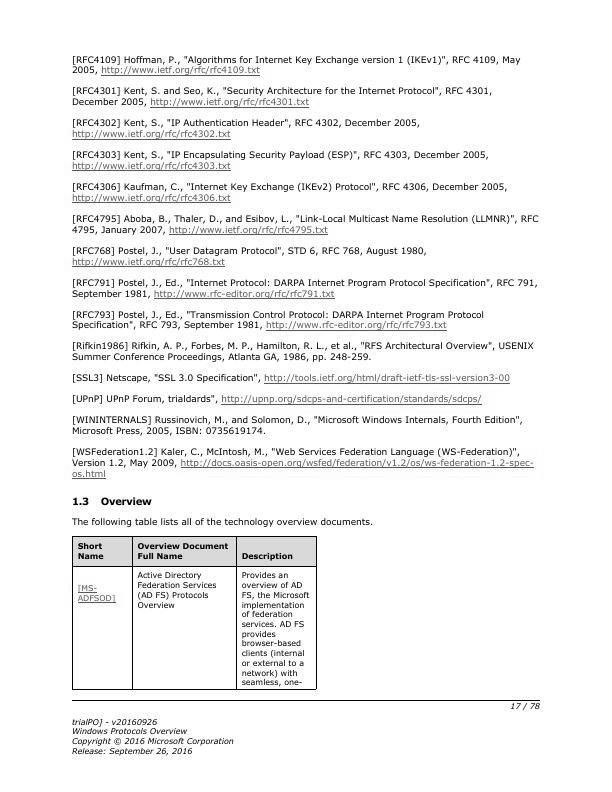table: (70, 534, 318, 692)
text: (68, 443, 535, 483), (68, 276, 542, 303), (68, 178, 509, 207), (70, 411, 527, 438), (68, 212, 540, 238), (68, 307, 490, 335), (70, 52, 523, 78), (70, 337, 534, 361), (68, 147, 490, 173), (68, 243, 429, 273), (68, 83, 494, 107), (71, 115, 422, 142), (70, 370, 513, 388), (68, 715, 238, 759), (68, 393, 487, 408), (68, 515, 374, 529), (70, 494, 158, 509)
